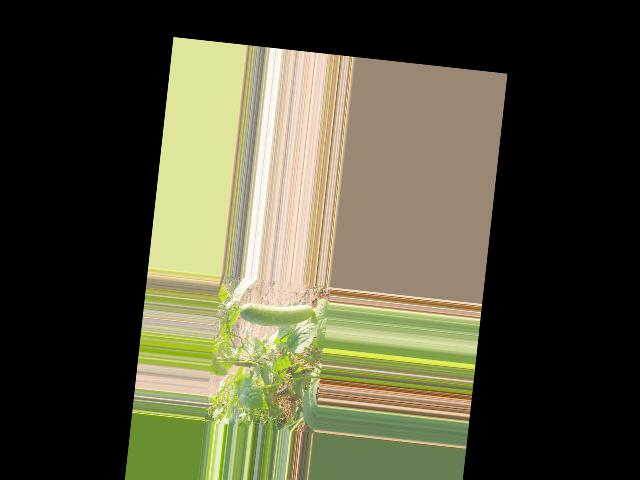cucumber: (239, 297, 314, 330)
